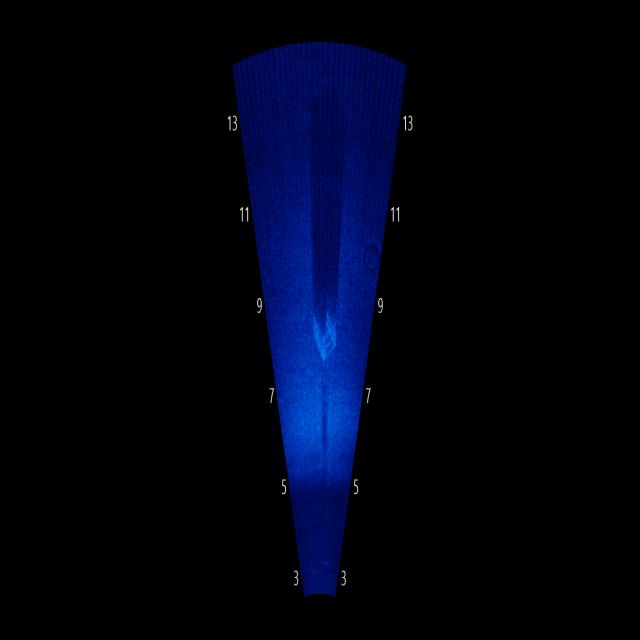square: (313, 302, 348, 366)
